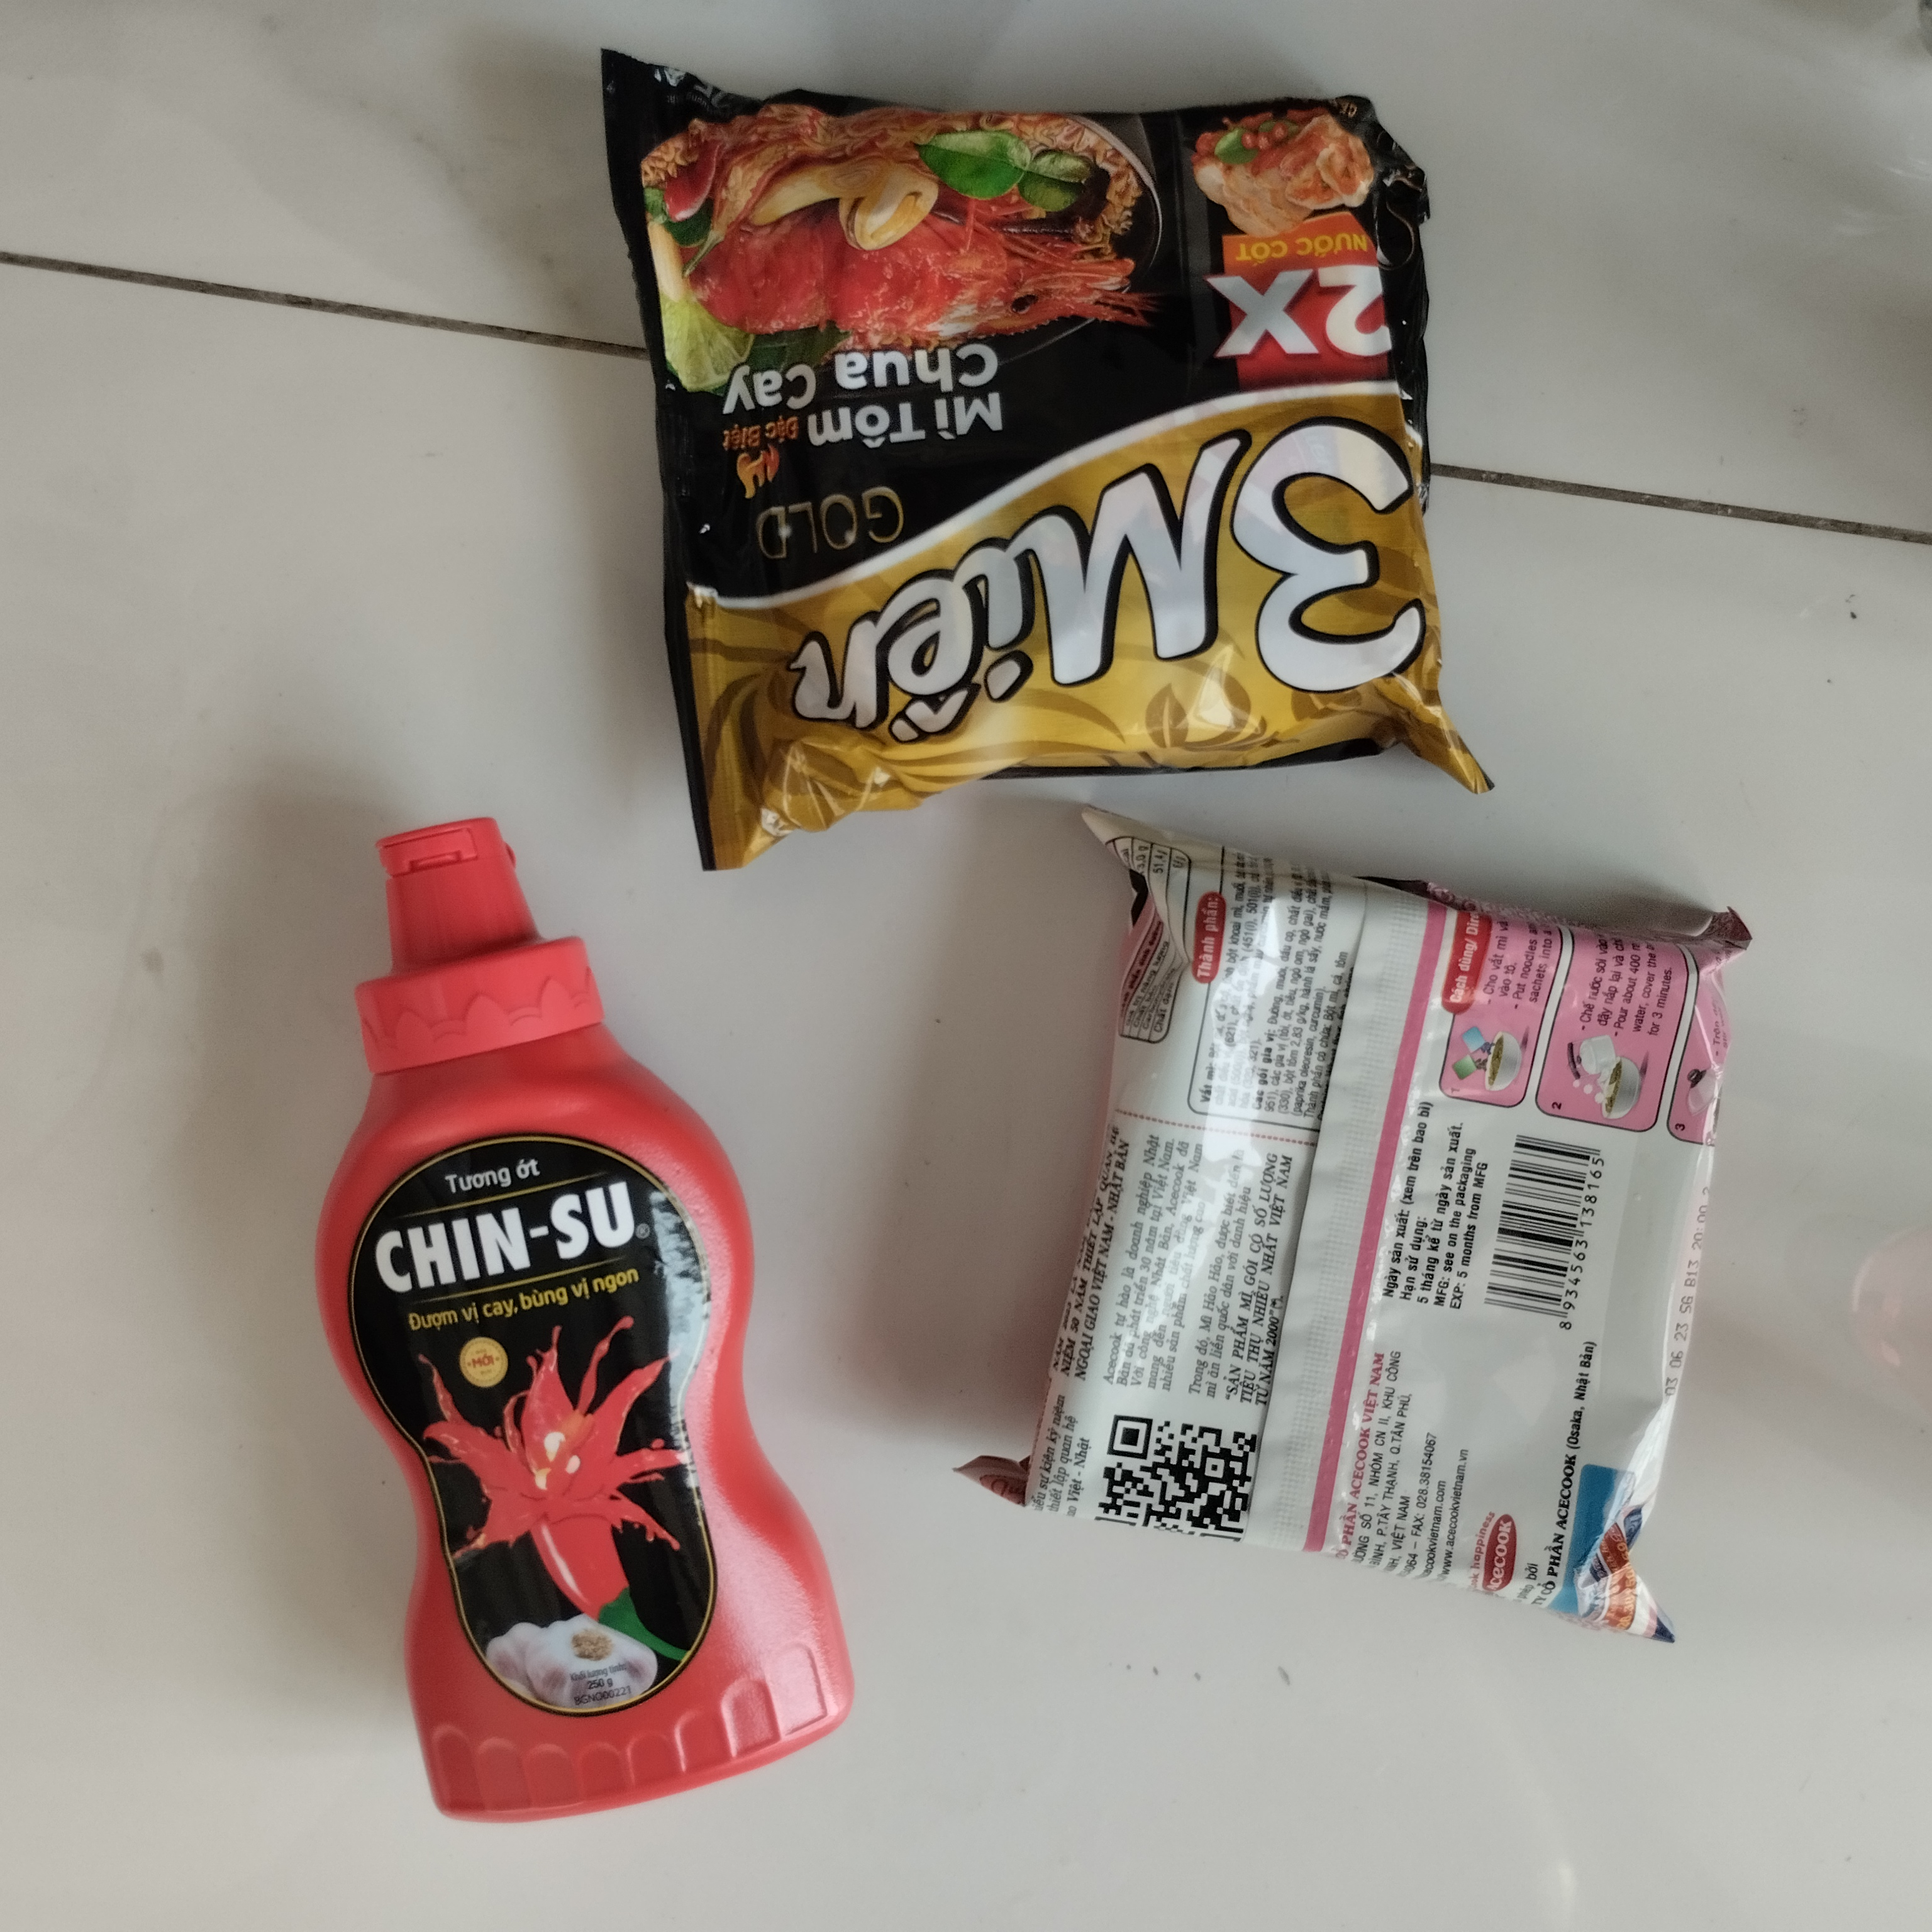3mien: (594, 28, 1502, 881)
Chinsu: (313, 814, 849, 1831)
Haohao: (936, 798, 1762, 1679)
